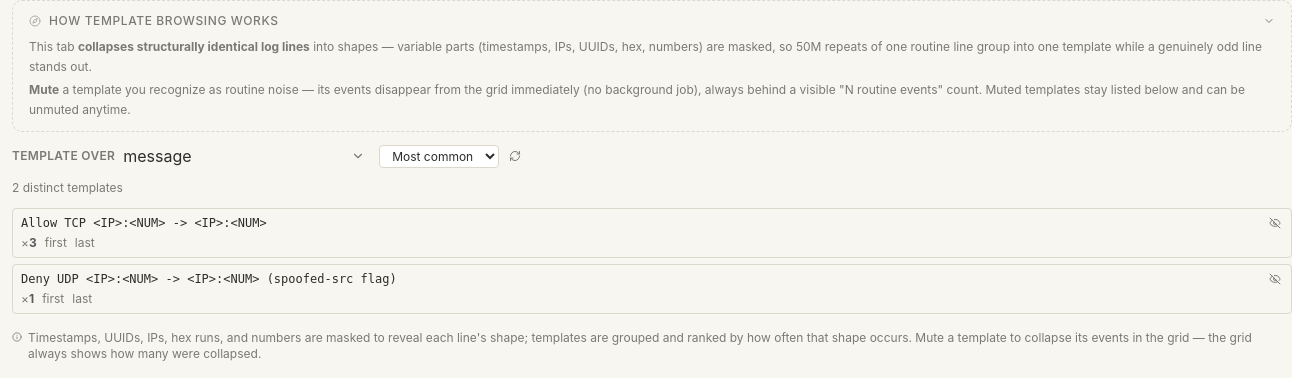
TemplatesView › offers no mute action for a non-message field
The image size is (1292, 378).
Expected: the text "Allow TCP <IP>:<NUM> -> <IP>:<NUM>" is shown, [21,216,267,230]
Expected: the number of buttons titled "Mute:" is 2, [1267,215,1283,231]; [1267,271,1283,287]
Replace the text in the dropdown named "field" with "attr:raw_line": (247, 156) [123,144,371,168]
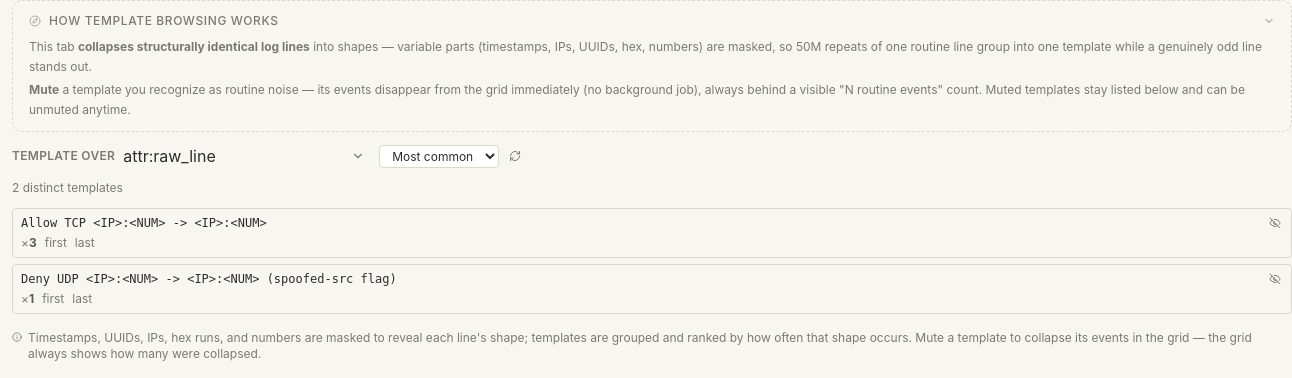
Press Enter in the dropdown named "field", box [123,144,371,168]
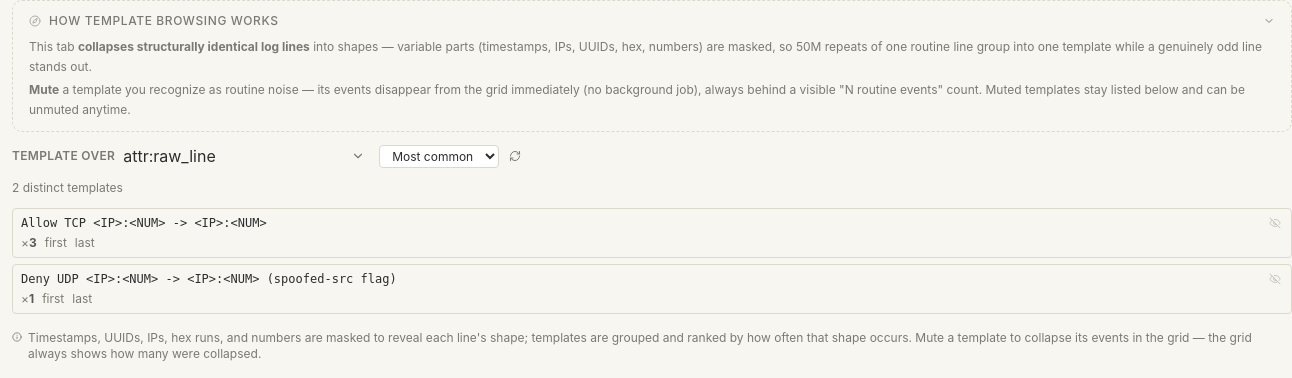
Result: the number of elements titled "only available for Message templates" is 2 at [1269,217,1281,229]; [1269,273,1281,285]
